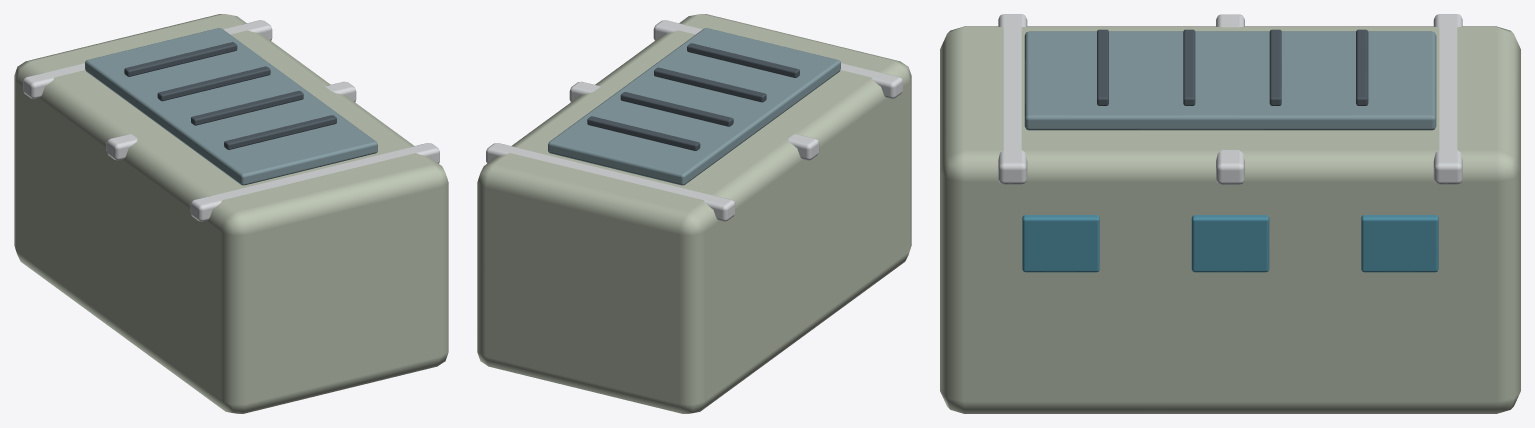
The picture shows the model from 3 angles, left to right: view 1: azimuth 30°, elevation 25°; view 2: azimuth 150°, elevation 25°; view 3: azimuth 270°, elevation 25°; orthographic projection. The views are drawn at different scales.
Parts seen in each view (by area): view 1: science-lab-pod; view 2: science-lab-pod; view 3: science-lab-pod.
Part boxes in pixels (x1,y1,x2,y2): science-lab-pod: (14, 14, 448, 413); science-lab-pod: (477, 14, 911, 413); science-lab-pod: (940, 14, 1520, 413).
Size of the model in its own units: 1.5 by 1.32 by 2.4.
